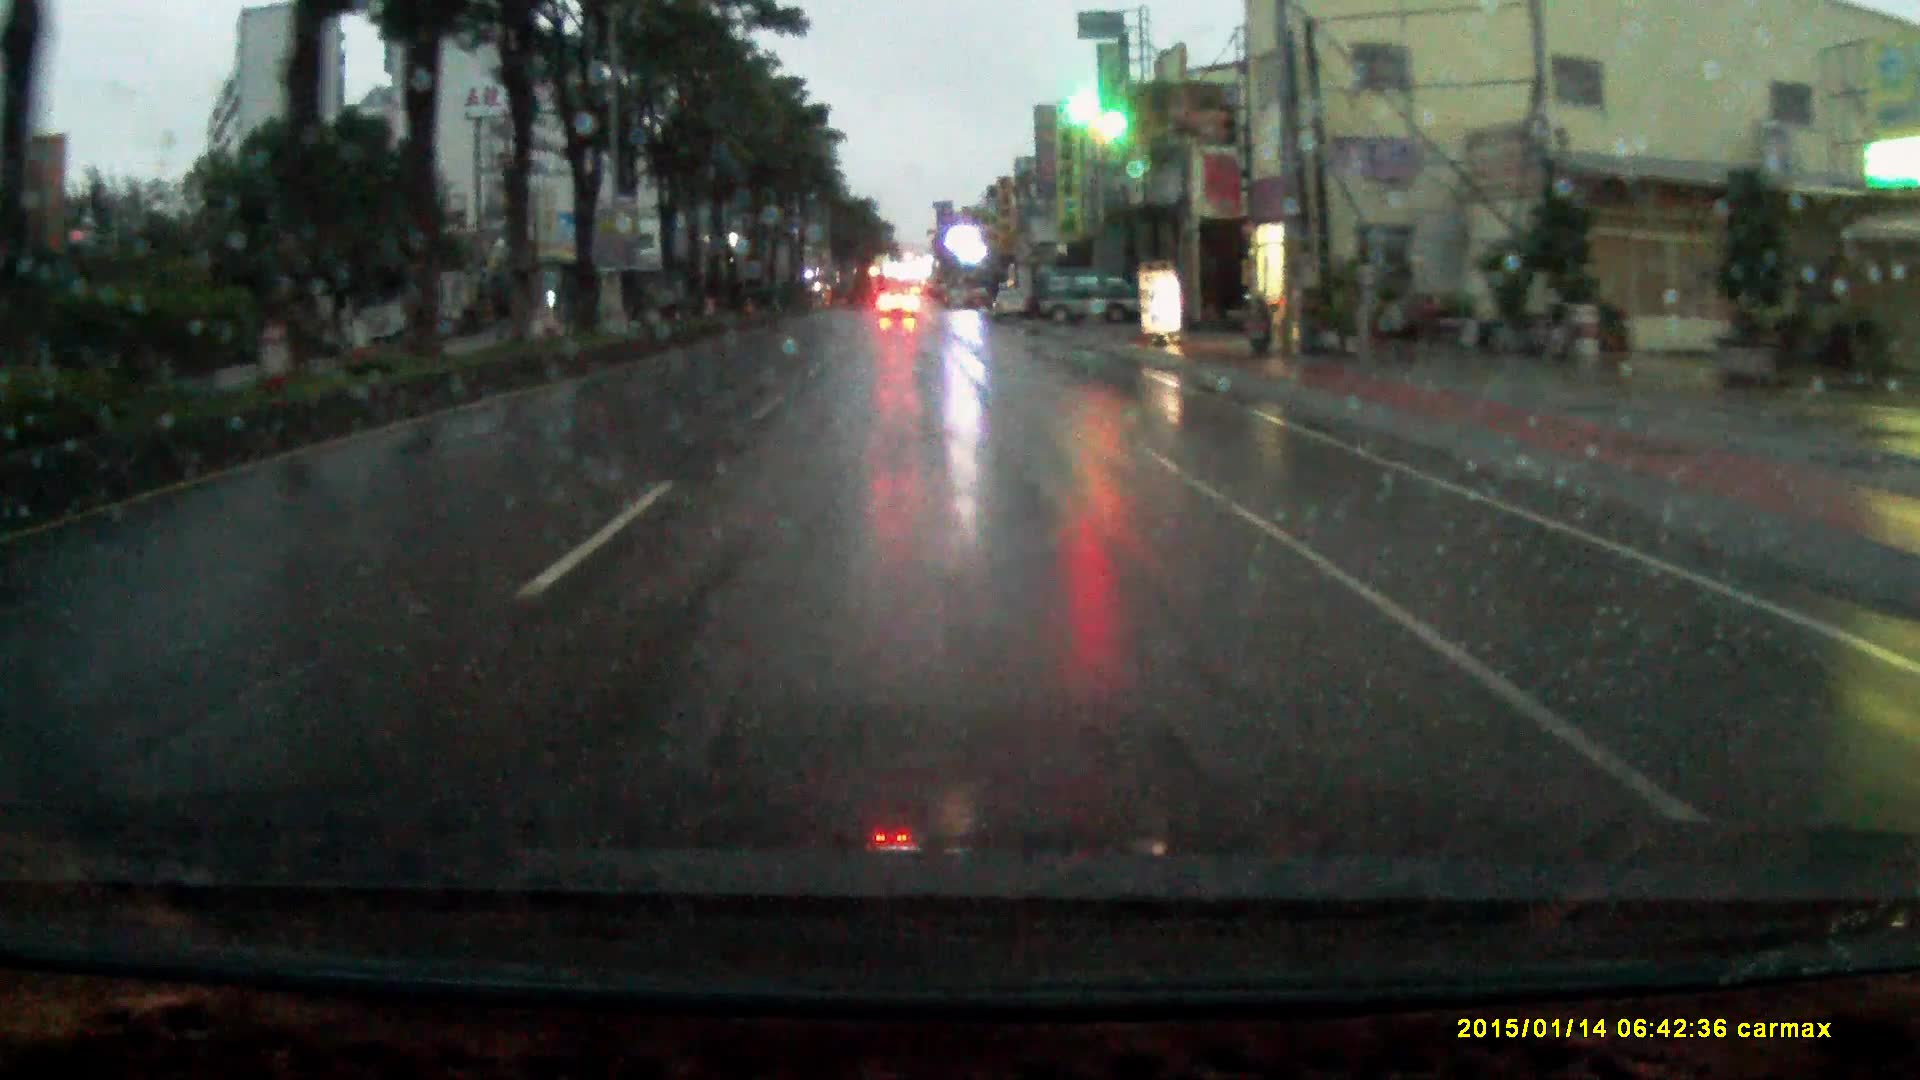vehicle: (1040, 269, 1143, 327), (878, 290, 923, 324), (993, 287, 1034, 323)
